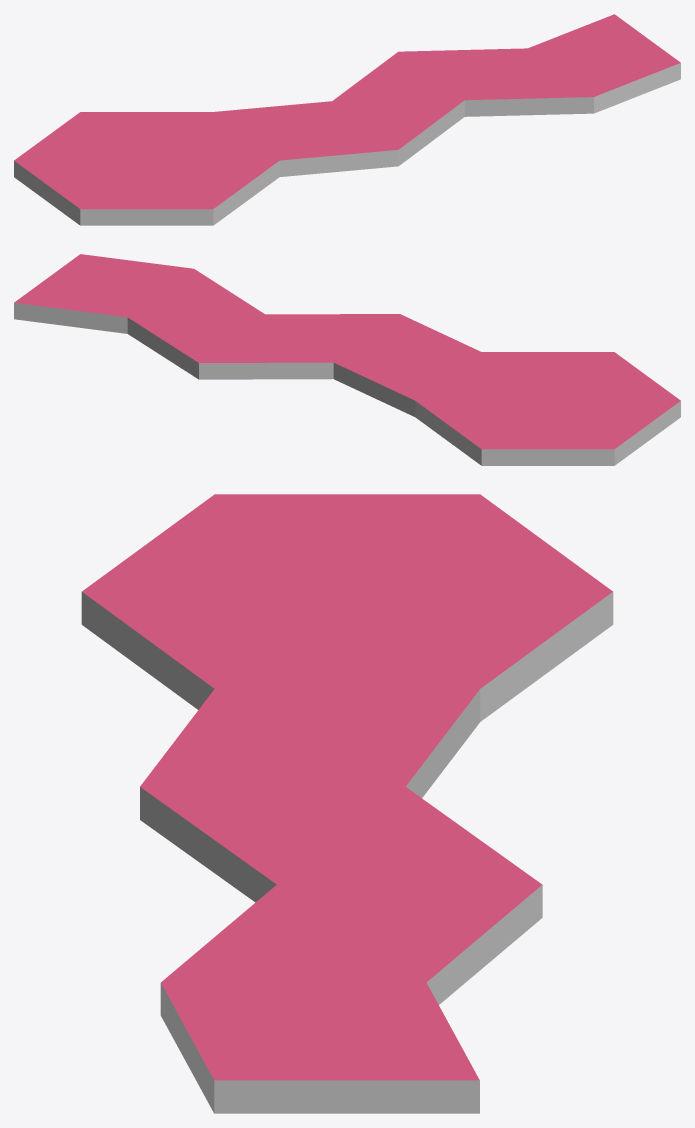
File: hexRoads.fbx
3 renders of one model, top to bottom at view 1: azimuth 30°, elevation 25°; view 2: azimuth 150°, elevation 25°; view 3: azimuth 270°, elevation 25°, orthographic. The views are drawn at different scales.
Parts seen in each view (by area): view 1: RoadSide, RoadCenter; view 2: RoadSide, RoadCenter; view 3: RoadSide, RoadCenter.
Boxes of the visible parts, box(x1,y1,x2,y2) form: RoadSide: box(214, 14, 680, 176); RoadCenter: box(14, 112, 279, 225); RoadSide: box(14, 254, 481, 416); RoadCenter: box(415, 352, 680, 465); RoadSide: box(140, 689, 542, 1113); RoadCenter: box(81, 494, 613, 721).
Bounding box in the file's own units: 1.04 × 0.0274 × 0.3978.
